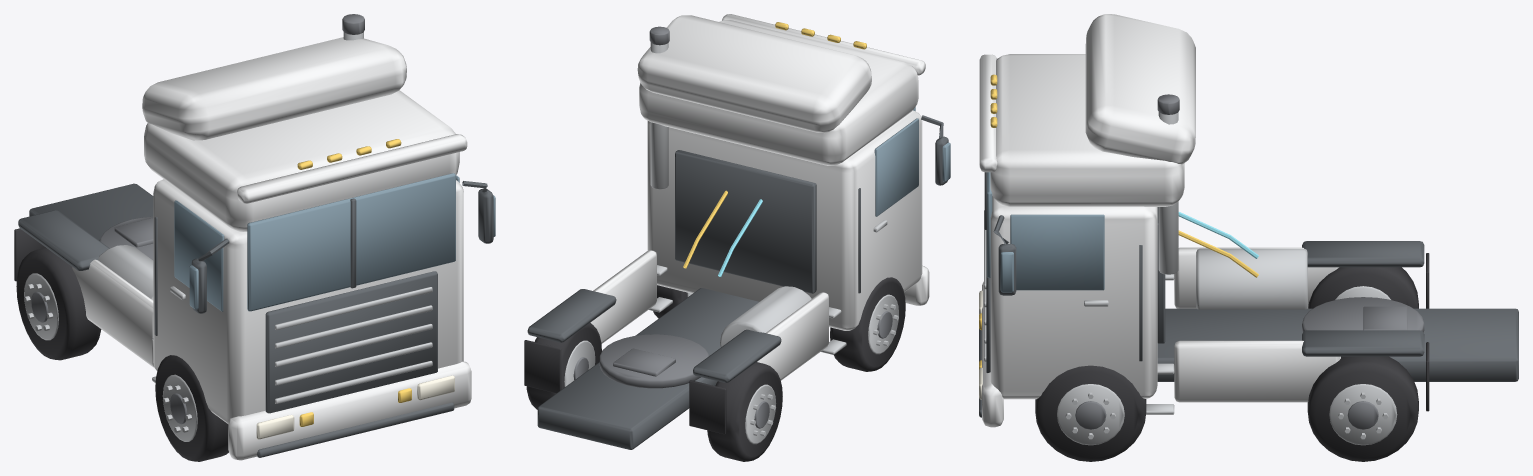
Rendered from truck_tractor.glb.
3 views of the same model, side by side, from view 1: azimuth 30°, elevation 25°; view 2: azimuth 150°, elevation 25°; view 3: azimuth 270°, elevation 25° (orthographic). The views are drawn at different scales.
Visible parts, largest first — view 1: Body; view 2: Body; view 3: Body.
Part boxes in pixels (<box>): Body: <box>14,14,495,461</box>; Body: <box>524,14,950,461</box>; Body: <box>979,14,1518,461</box>.
Bounding box in the file's own units: 3.07 × 3.51 × 4.86.
